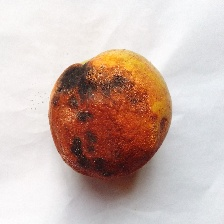guava: (11, 59, 209, 196)
